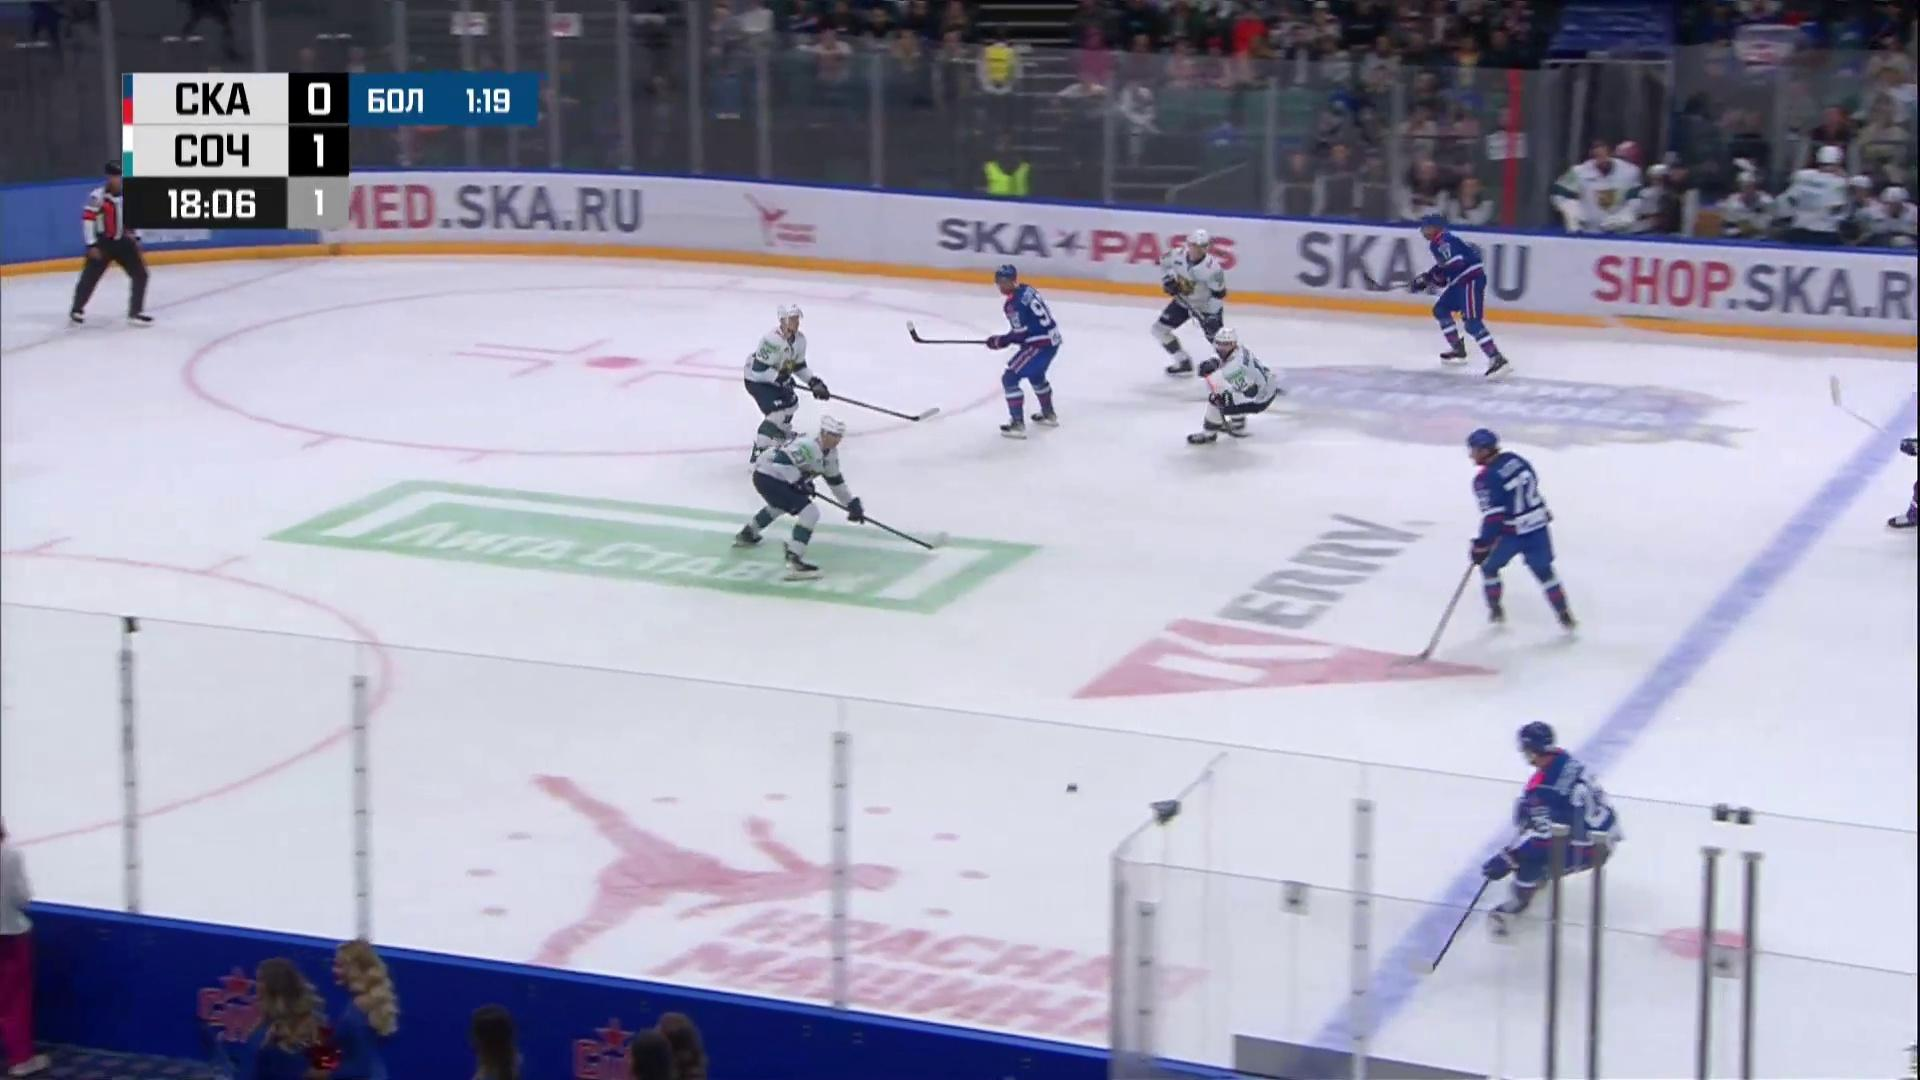ball: (1065, 783, 1079, 793)
